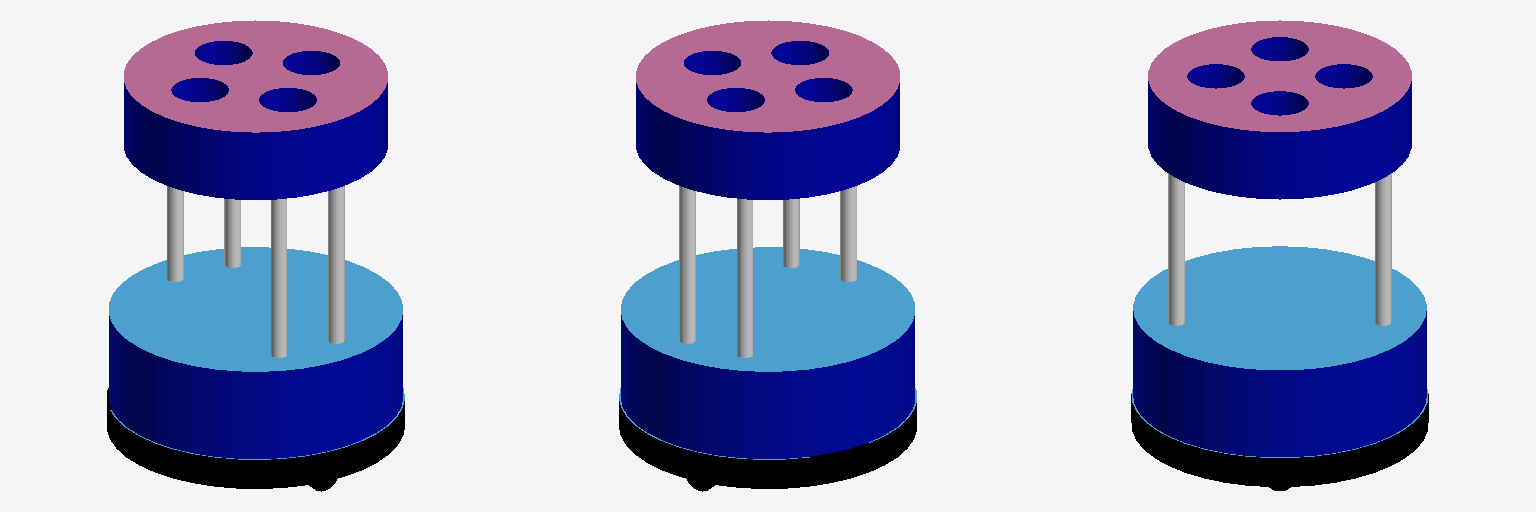
The robot description file, URDF, robot "barista_robot":
<?xml version="1.0"?>
<robot name="barista_robot">
    <!-- White Material -->
    <material name="white">
        <color rgba="1 1 1 1"/>
    </material>
    <!-- Black Material -->
    <material name="black">
        <color rgba="0 0 0 1"/>
    </material>
    <!-- Reference Frame-->
    <link name="base_link"/>
    <!-- Chassis -->
    <link name="chassis">
        <visual>
            <origin rpy="0 0 0" xyz="0 0 0"/>
            <geometry>
                <mesh filename="package://barista_robot_description/meshes/chassis.dae" scale="1 1 1"/>
            </geometry>
        </visual>
        <inertial>
            <mass value="12"/>
            <origin rpy="0 0 0" xyz="0 0 0"/>
            <inertia ixx="0.119077" ixy="0" ixz="0" iyy="0.119077" iyz="0" izz="0.190104"/>
        </inertial>
        <collision>
            <origin rpy="0 0 0" xyz="0 0 0"/>
            <geometry>
                <cylinder radius="0.178" length="0.155"/>
            </geometry>
        </collision>
    </link>
    <!-- Rod A -->
    <link name="rod_a">
        <visual>
            <origin rpy="0 0 0" xyz="0 0 0"/>
            <geometry>
                <cylinder radius="0.01" length="0.22"/>
            </geometry>
            <material name="white"/>
        </visual>
        <inertial>
            <mass value="0.25"/>
            <origin rpy="0 0 0" xyz="0 0 0"/>
            <inertia ixx="0.001015" ixy="0" ixz="0" iyy="0.001015" iyz="0" izz="0.000013"/>
        </inertial>
        <collision>
            <origin rpy="0 0 0" xyz="0 0 0"/>
            <geometry>
               <cylinder radius="0.01" length="0.22"/>
            </geometry>
        </collision>
    </link>
    <gazebo reference="rod_a">
        <material>Gazebo/White</material>
    </gazebo>
    <!-- Rod B -->
    <link name="rod_b">
        <visual>
            <origin rpy="0 0 0" xyz="0 0 0"/>
            <geometry>
                <cylinder radius="0.01" length="0.22"/>
            </geometry>
            <material name="white"/>
        </visual>
        <inertial>
            <mass value="0.25"/>
            <origin rpy="0 0 0" xyz="0 0 0"/>
            <inertia ixx="0.001015" ixy="0" ixz="0" iyy="0.001015" iyz="0" izz="0.000013"/>
        </inertial>
        <collision>
            <origin rpy="0 0 0" xyz="0 0 0"/>
            <geometry>
                <cylinder radius="0.01" length="0.22"/>
            </geometry>
        </collision>
    </link>
    <gazebo reference="rod_b">
        <material>Gazebo/White</material>
    </gazebo>
    <!-- Rod C -->
    <link name="rod_c">
        <visual>
            <origin rpy="0 0 0" xyz="0 0 0"/>
            <geometry>
                <cylinder radius="0.01" length="0.22"/>
            </geometry>
            <material name="white"/>
        </visual>
        <inertial>
            <mass value="0.25"/>
            <origin rpy="0 0 0" xyz="0 0 0"/>
            <inertia ixx="0.001015" ixy="0" ixz="0" iyy="0.001015" iyz="0" izz="0.000013"/>
        </inertial>
        <collision>
            <origin rpy="0 0 0" xyz="0 0 0"/>
            <geometry>
                <cylinder radius="0.01" length="0.22"/>
            </geometry>
        </collision>
    </link>
    <gazebo reference="rod_c">
        <material>Gazebo/White</material>
    </gazebo>
    <!-- Rod D -->
    <link name="rod_d">
        <visual>
            <origin rpy="0 0 0" xyz="0 0 0"/>
            <geometry>
                <cylinder radius="0.01" length="0.22"/>
            </geometry>
            <material name="white"/>
        </visual>
        <inertial>
            <mass value="0.25"/>
            <origin rpy="0 0 0" xyz="0 0 0"/>
            <inertia ixx="0.001015" ixy="0" ixz="0" iyy="0.001015" iyz="0" izz="0.000013"/>
        </inertial>
        <collision>
            <origin rpy="0 0 0" xyz="0 0 0"/>
            <geometry>
                <cylinder radius="0.01" length="0.22"/>
            </geometry>
        </collision>
    </link>
    <gazebo reference="rod_d">
        <material>Gazebo/White</material>
    </gazebo>
    <!-- Cup Holder -->
    <link name="cup_holder">
        <visual>
            <origin rpy="0 0 0" xyz="0 0 0"/>
            <geometry>
                <mesh filename="package://barista_robot_description/meshes/cup_holder.dae" scale="1 1 1"/>
            </geometry>
        </visual>
        <inertial>
            <mass value="6"/>
            <origin rpy="0 0 0" xyz="0 0 0"/>
            <inertia ixx="0.042450" ixy="0" ixz="0" iyy="0.042450" iyz="0" izz="0.076800"/>
        </inertial>
        <collision>
            <origin rpy="0 0 0" xyz="0 0 0"/>
            <geometry>
                <cylinder radius="0.160" length="0.090"/>
            </geometry>
        </collision>
    </link>
    <!-- Left Wheel -->
    <link name="left_wheel">
        <visual>
            <origin rpy="1.570796 0 0" xyz="0 0 0"/>
            <geometry>
                <cylinder radius="0.020" length="0.040"/>
            </geometry>
            <material name="black"/>
        </visual>
        <inertial>
            <mass value="0.25"/>
            <origin rpy="1.570796 0 0" xyz="0 0 0"/>
            <inertia ixx="0.000058" ixy="0" ixz="0" iyy="0.000058" iyz="0" izz="0.000050"/>
        </inertial>
        <collision>
            <origin rpy="1.570796 0 0" xyz="0 0 0"/>
            <geometry>
                <cylinder radius="0.020" length="0.040"/>
            </geometry>
        </collision>
    </link>
    <gazebo reference="left_wheel">
        <kp>1e6</kp>
        <kd>10</kd>
        <mu1>10.0</mu1>
        <mu2>10.0</mu2>
        <material>Gazebo/Black</material>
    </gazebo>
    <!-- Right Wheel -->
    <link name="right_wheel">
        <visual>
            <origin rpy="1.570796 0 0" xyz="0 0 0"/>
            <geometry>
                <cylinder radius="0.020" length="0.040"/>
            </geometry>
            <material name="black"/>
        </visual>
        <inertial>
            <mass value="0.25"/>
            <origin rpy="1.570796 0 0" xyz="0 0 0"/>
            <inertia ixx="0.000058" ixy="0" ixz="0" iyy="0.000058" iyz="0" izz="0.000050"/>
        </inertial>
        <collision>
            <origin rpy="1.570796 0 0" xyz="0 0 0"/>
            <geometry>
                <cylinder radius="0.020" length="0.040"/>
            </geometry>
        </collision>
    </link>
    <gazebo reference="right_wheel">
        <kp>1e6</kp>
        <kd>10</kd>
        <mu1>10.0</mu1>
        <mu2>10.0</mu2>
        <material>Gazebo/Black</material>
    </gazebo>
    <!-- Front Caster -->
    <link name="front_caster">
        <visual>
            <origin rpy="0 0 0" xyz="0 0 0"/>
            <geometry>
                <sphere radius="0.020"/>
            </geometry>
            <material name="black"/>
        </visual>
        <inertial>
            <mass value="0.25"/>
            <origin rpy="0 0 0" xyz="0 0 0"/>
            <inertia ixx="0.000040" ixy="0" ixz="0" iyy="0.000040" iyz="0" izz="0.000040"/>
        </inertial>
        <collision>
            <origin rpy="0 0 0" xyz="0 0 0"/>
            <geometry>
                <sphere radius="0.020"/>
            </geometry>
        </collision>
    </link>
    <gazebo reference="front_caster">
        <kp>1e6</kp>
        <kd>10</kd>
        <mu1>0.0</mu1>
        <mu2>0.0</mu2>
        <material>Gazebo/Black</material>
    </gazebo>
    <!-- Back Caster -->
    <link name="back_caster">
        <visual>
            <origin rpy="0 0 0" xyz="0 0 0" />
            <geometry>
                <sphere radius="0.020"/>
            </geometry>
            <material name="black"/>
        </visual>
        <inertial>
            <mass value="0.25"/>
            <origin rpy="0 0 0" xyz="0 0 0"/>
            <inertia ixx="0.000040" ixy="0" ixz="0" iyy="0.000040" iyz="0" izz="0.000040"/>
        </inertial>
        <collision>
            <origin rpy="0 0 0" xyz="0 0 0"/>
            <geometry>
                <sphere radius="0.020"/>
            </geometry>
        </collision>
    </link>
    <gazebo reference="back_caster">
        <kp>1e6</kp>
        <kd>10</kd>
        <mu1>0.0</mu1>
        <mu2>0.0</mu2>
        <material>Gazebo/Black</material>
    </gazebo>
    <!-- Reference - Chassis -->
    <joint name="reference_to_chassis" type="fixed">
        <parent link="base_link"/>
        <child link="chassis"/>
        <origin xyz="0 0 0.0975" rpy="0 0 0"/>
    </joint>
    <!-- Chassis - Rod A -->
    <joint name="chassis_to_rod_a" type="fixed">
        <parent link="chassis"/>
        <child link="rod_a"/>
        <origin xyz="0.040 0.125 0.1875" rpy="0 0 0"/>
    </joint>
    <!-- Chassis - Rod B -->
    <joint name="chassis_to_rod_b" type="fixed">
        <parent link="chassis"/>
        <child link="rod_b"/>
        <origin xyz="-0.040 0.125 0.1875" rpy="0 0 0"/>
    </joint>
    <!-- Chassis - Rod C -->
    <joint name="chassis_to_rod_c" type="fixed">
        <parent link="chassis"/>
        <child link="rod_c"/>
        <origin xyz="0.040 -0.125 0.1875" rpy="0 0 0"/>
    </joint>
    <!-- Chassis - Rod D -->
    <joint name="chassis_to_rod_d" type="fixed">
        <parent link="chassis"/>
        <child link="rod_d"/>
        <origin xyz="-0.040 -0.125 0.1875" rpy="0 0 0"/>
    </joint>
    <!-- Chassis - Cup Holder -->
    <joint name="chassis_to_cup_holder" type="fixed">
        <parent link="chassis"/>
        <child link="cup_holder"/>
        <origin xyz="0 0 0.3425" rpy="0 0 0"/>
    </joint>
    <!-- Chassis - Left Wheel -->
    <joint name="chassis_to_left_wheel" type="continuous">
        <parent link="chassis"/>
        <child link="left_wheel"/>
        <origin xyz="0 -0.145 -0.0775" rpy="0 0 0"/>
        <axis xyz="0 1 0"/>
        <limit effort="10000" velocity="1000" />
        <joint_properties damping="1.0" friction="1.0"/>
    </joint>
    <!-- Chassis - Right Wheel -->
    <joint name="chassis_to_right_wheel" type="continuous">
        <parent link="chassis"/>
        <child link="right_wheel"/>
        <origin xyz="0 0.145 -0.0775" rpy="0 0 0"/>
        <axis xyz="0 1 0"/>
        <limit effort="10000" velocity="1000" />
        <joint_properties damping="1.0" friction="1.0"/>
    </joint>
    <!-- Chassis - Front Caster -->
    <joint name="chassis_to_front_caster" type="fixed">
        <parent link="chassis"/>
        <child link="front_caster"/>
        <origin xyz="0.145 0 -0.0775" rpy="0 0 0"/>
        <joint_properties damping="1.0" friction="1.0"/>
    </joint>
    <gazebo reference="chassis_to_front_caster">
        <preserveFixedJoint>true</preserveFixedJoint>
    </gazebo>
    <!-- Chassis - Back Caster -->
    <joint name="chassis_to_back_caster" type="fixed">
        <parent link="chassis"/>
        <child link="back_caster"/>
        <origin xyz="-0.145 0 -0.0775" rpy="0 0 0"/>
        <joint_properties damping="1.0" friction="1.0"/>
    </joint>
    <gazebo reference="chassis_to_back_caster">
        <preserveFixedJoint>true</preserveFixedJoint>
    </gazebo>
    <!-- Joint State Plugin -->
    <gazebo>
        <plugin name="barista_bot_joint_state" filename="libgazebo_ros_joint_state_publisher.so">
        <ros>
            <remapping>~/out:=joint_states</remapping>
        </ros>
        <update_rate>30</update_rate>
        <joint_name>chassis_to_left_wheel</joint_name>
        <joint_name>chassis_to_right_wheel</joint_name>
        </plugin>
    </gazebo>
</robot>

--- What the picture shows (computed from the rendered views, not written in the file) ---
3 views of the same robot in one strip: view 1: azimuth 30°, elevation 25°; view 2: azimuth 150°, elevation 25°; view 3: azimuth 270°, elevation 25° (orthographic).
Model barista_robot with 11 links and 10 joints (2 continuous, 8 fixed), rooted at base_link, posed all joints at 0.
Links seen in each view (by area): view 1: chassis, cup_holder, rod_c, rod_d, rod_b, rod_a; view 2: chassis, cup_holder, rod_a, rod_b, rod_d, rod_c; view 3: chassis, cup_holder, rod_a, rod_c.
Link boxes in pixels (x1=…): chassis: x1=107, y1=247, x2=404, y2=488; cup_holder: x1=124, y1=20, x2=387, y2=199; rod_c: x1=328, y1=186, x2=344, y2=343; rod_d: x1=271, y1=199, x2=286, y2=357; rod_b: x1=167, y1=186, x2=183, y2=281; rod_a: x1=224, y1=199, x2=240, y2=267; chassis: x1=619, y1=247, x2=916, y2=488; cup_holder: x1=636, y1=20, x2=899, y2=199; rod_a: x1=679, y1=186, x2=695, y2=343; rod_b: x1=737, y1=199, x2=752, y2=357; rod_d: x1=840, y1=186, x2=856, y2=281; rod_c: x1=783, y1=199, x2=799, y2=267; chassis: x1=1131, y1=246, x2=1428, y2=486; cup_holder: x1=1148, y1=20, x2=1411, y2=199; rod_a: x1=1375, y1=173, x2=1391, y2=325; rod_c: x1=1168, y1=173, x2=1184, y2=325.
Bounding box of the posed robot: 0.3595 × 0.3598 × 0.485 m (x, y, z).
Meshes: 2 distinct files referenced, 2 mesh visuals loaded (2 Collada DAE).